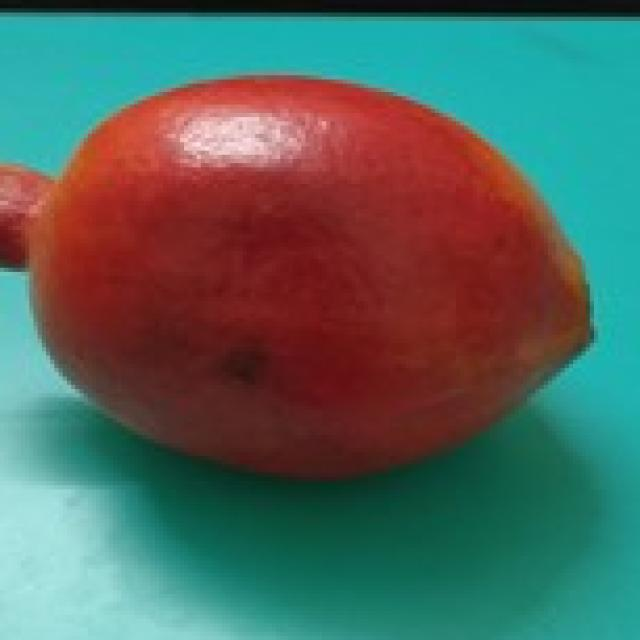Bad_Pomegranate-0-1-day: (0, 67, 598, 485)
